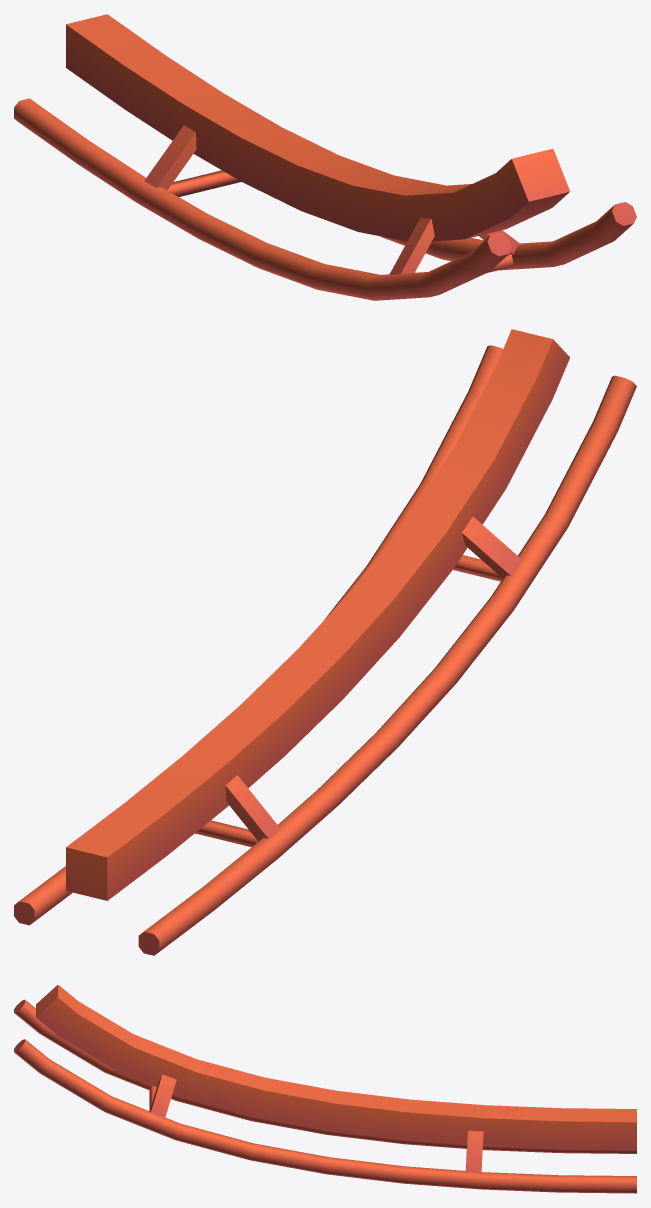
Rendered from coaster-hanging-straight-hill-beginning.glb.
The picture shows the model from 3 angles, top to bottom: view 1: azimuth 30°, elevation 25°; view 2: azimuth 150°, elevation 25°; view 3: azimuth 270°, elevation 25°; orthographic projection. The views are drawn at different scales.
Visible parts, largest first — view 1: coaster-hanging-straight-hill-beginning; view 2: coaster-hanging-straight-hill-beginning; view 3: coaster-hanging-straight-hill-beginning.
Boxes of the visible parts, <box> form: coaster-hanging-straight-hill-beginning: <box>14,14,636,300</box>; coaster-hanging-straight-hill-beginning: <box>14,329,636,955</box>; coaster-hanging-straight-hill-beginning: <box>14,985,636,1193</box>.
Bounding box in the file's own units: 0.6997 × 1.28 × 4.
1 material, 1 textured.
